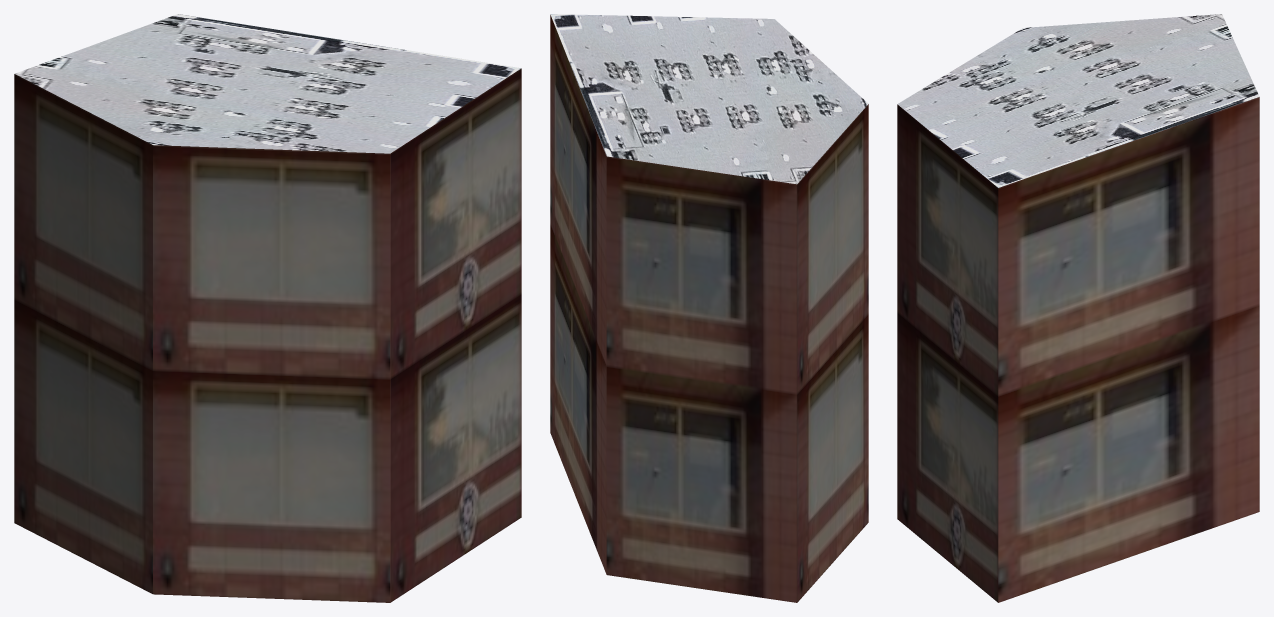
Rendered from ResTex__3029.fbx.
3 views of the same model, side by side, from view 1: azimuth 30°, elevation 25°; view 2: azimuth 150°, elevation 25°; view 3: azimuth 270°, elevation 25° (orthographic). The views are drawn at different scales.
Parts seen in each view (by area): view 1: CityEngineMaterial_13_m, CityEngineMaterial_2_m; view 2: CityEngineMaterial_13_m, CityEngineMaterial_2_m; view 3: CityEngineMaterial_13_m, CityEngineMaterial_2_m.
Part boxes in pixels (left/top/right/bottom): CityEngineMaterial_13_m: left=14, top=68, right=521, bottom=602; CityEngineMaterial_2_m: left=14, top=14, right=520, bottom=153; CityEngineMaterial_13_m: left=550, top=15, right=868, bottom=602; CityEngineMaterial_2_m: left=550, top=14, right=868, bottom=184; CityEngineMaterial_13_m: left=897, top=97, right=1259, bottom=602; CityEngineMaterial_2_m: left=897, top=14, right=1259, bottom=187.
Bounding box in the file's own units: 5.4 × 6 × 4.75.
2 materials, 2 textured.
